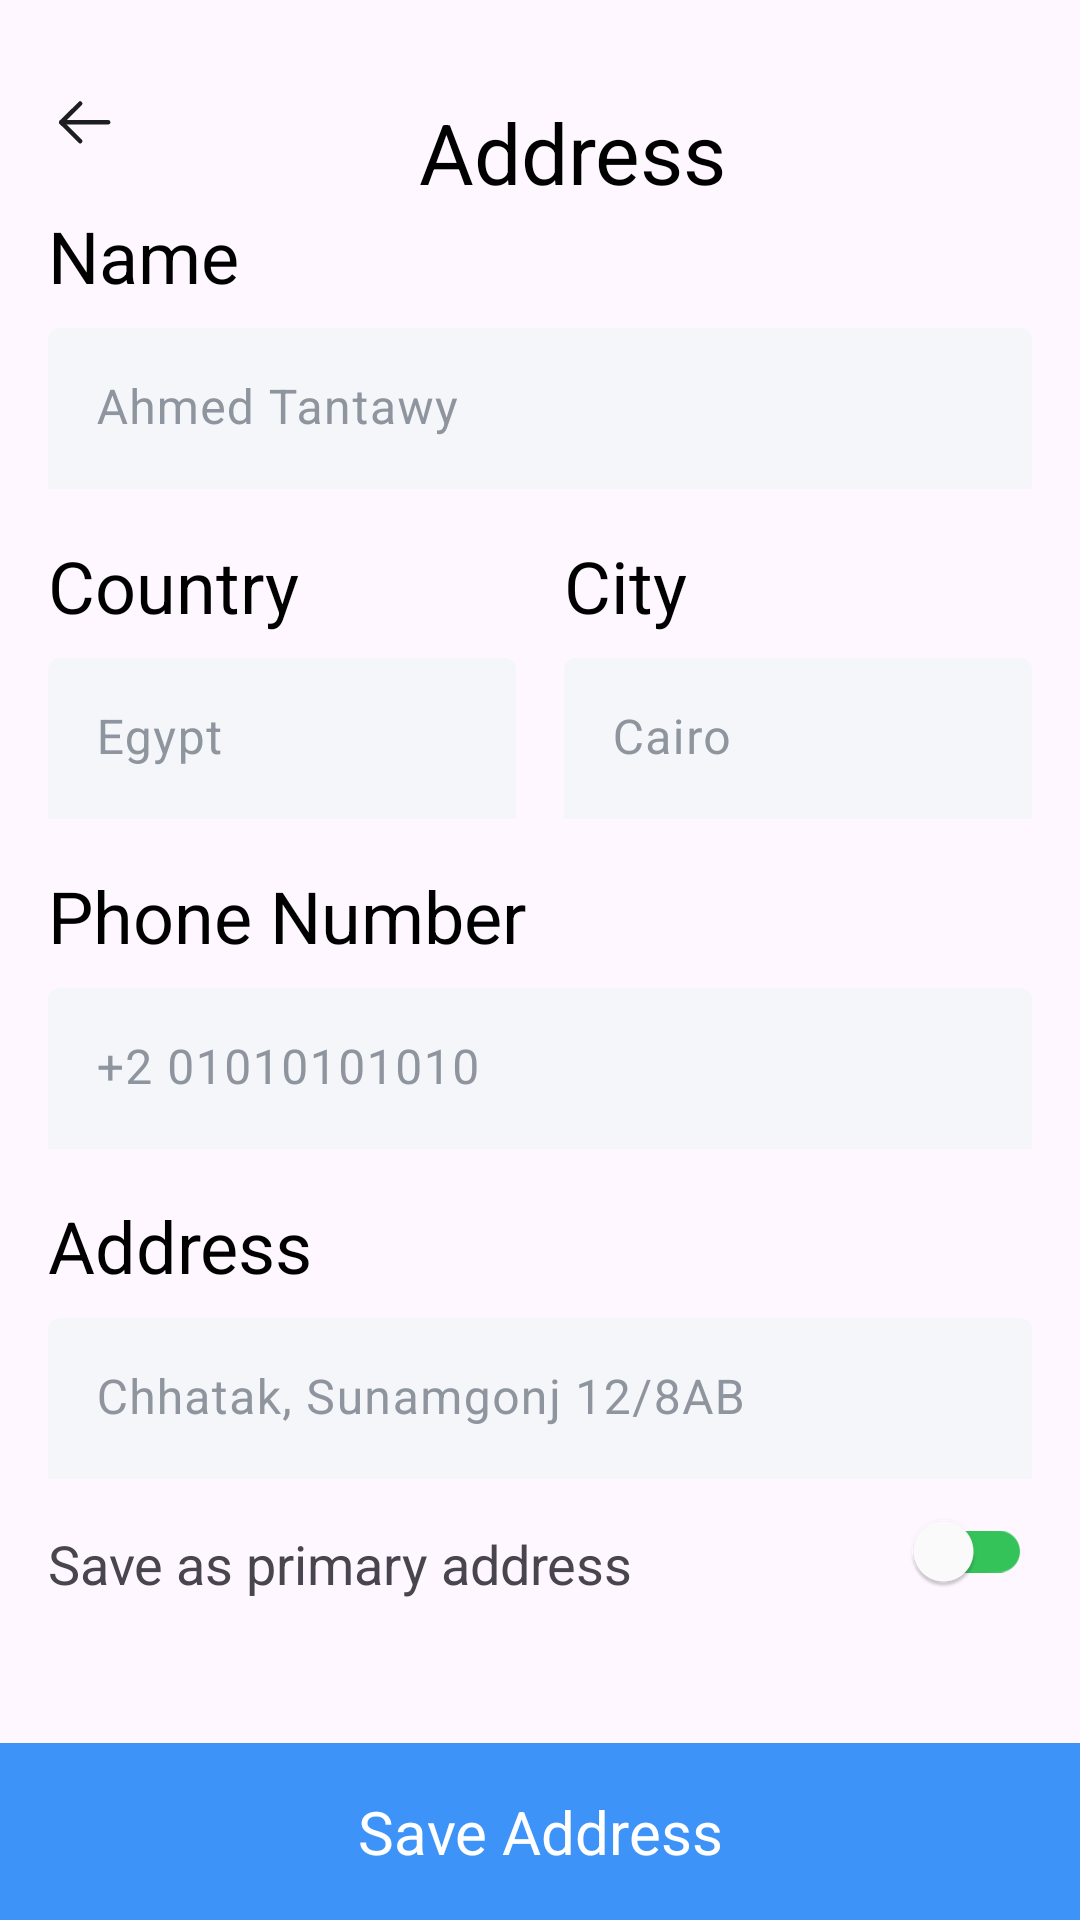

Icon click points for this 1080x1920 phone screenshot, format (x,y):
back: (85,122)
